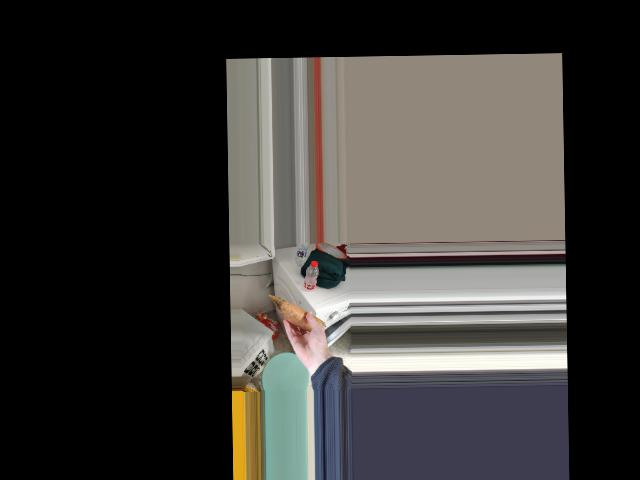sweet_potato: (283, 303, 319, 329)
